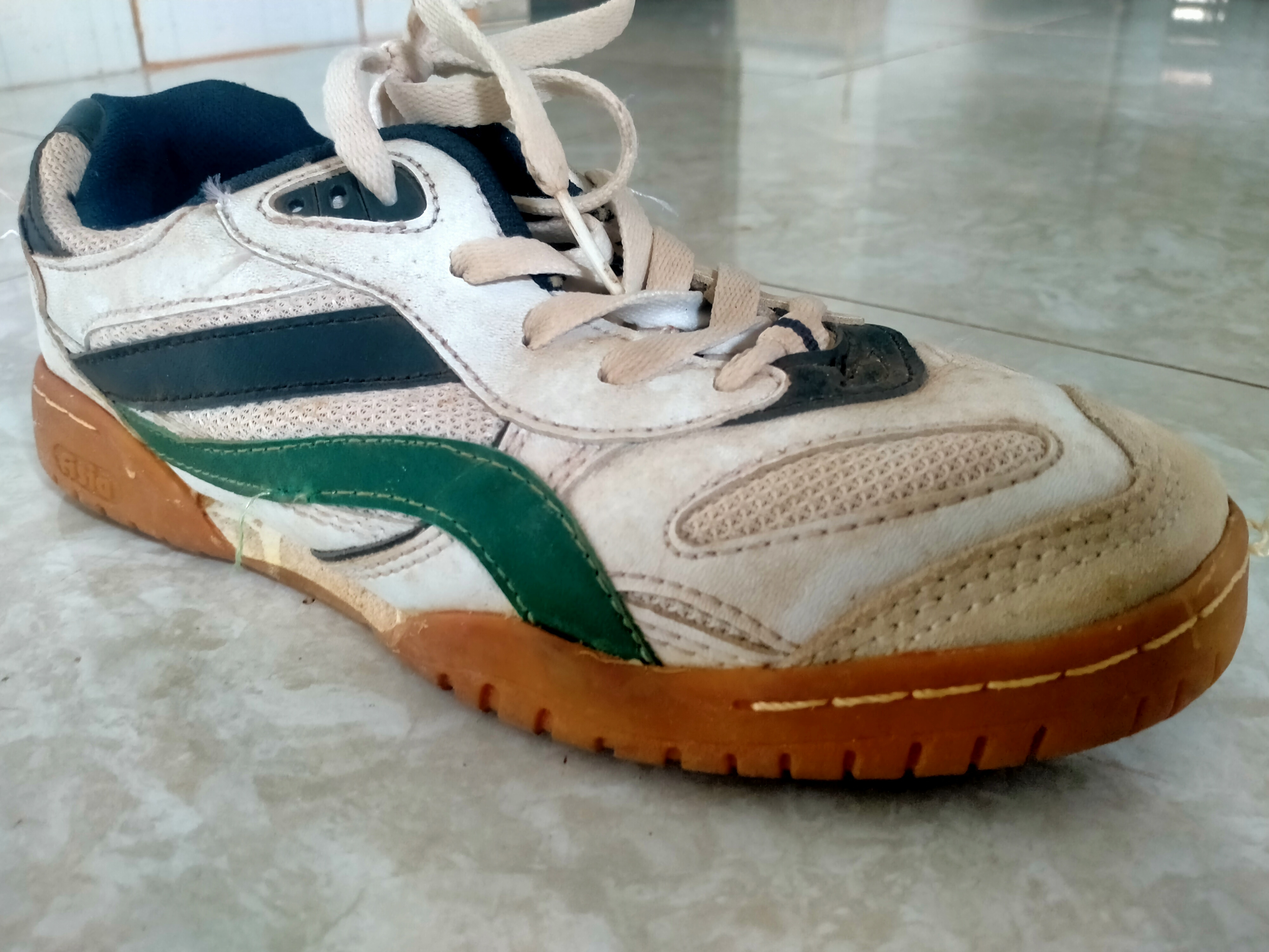broken: (269, 482, 331, 501)
